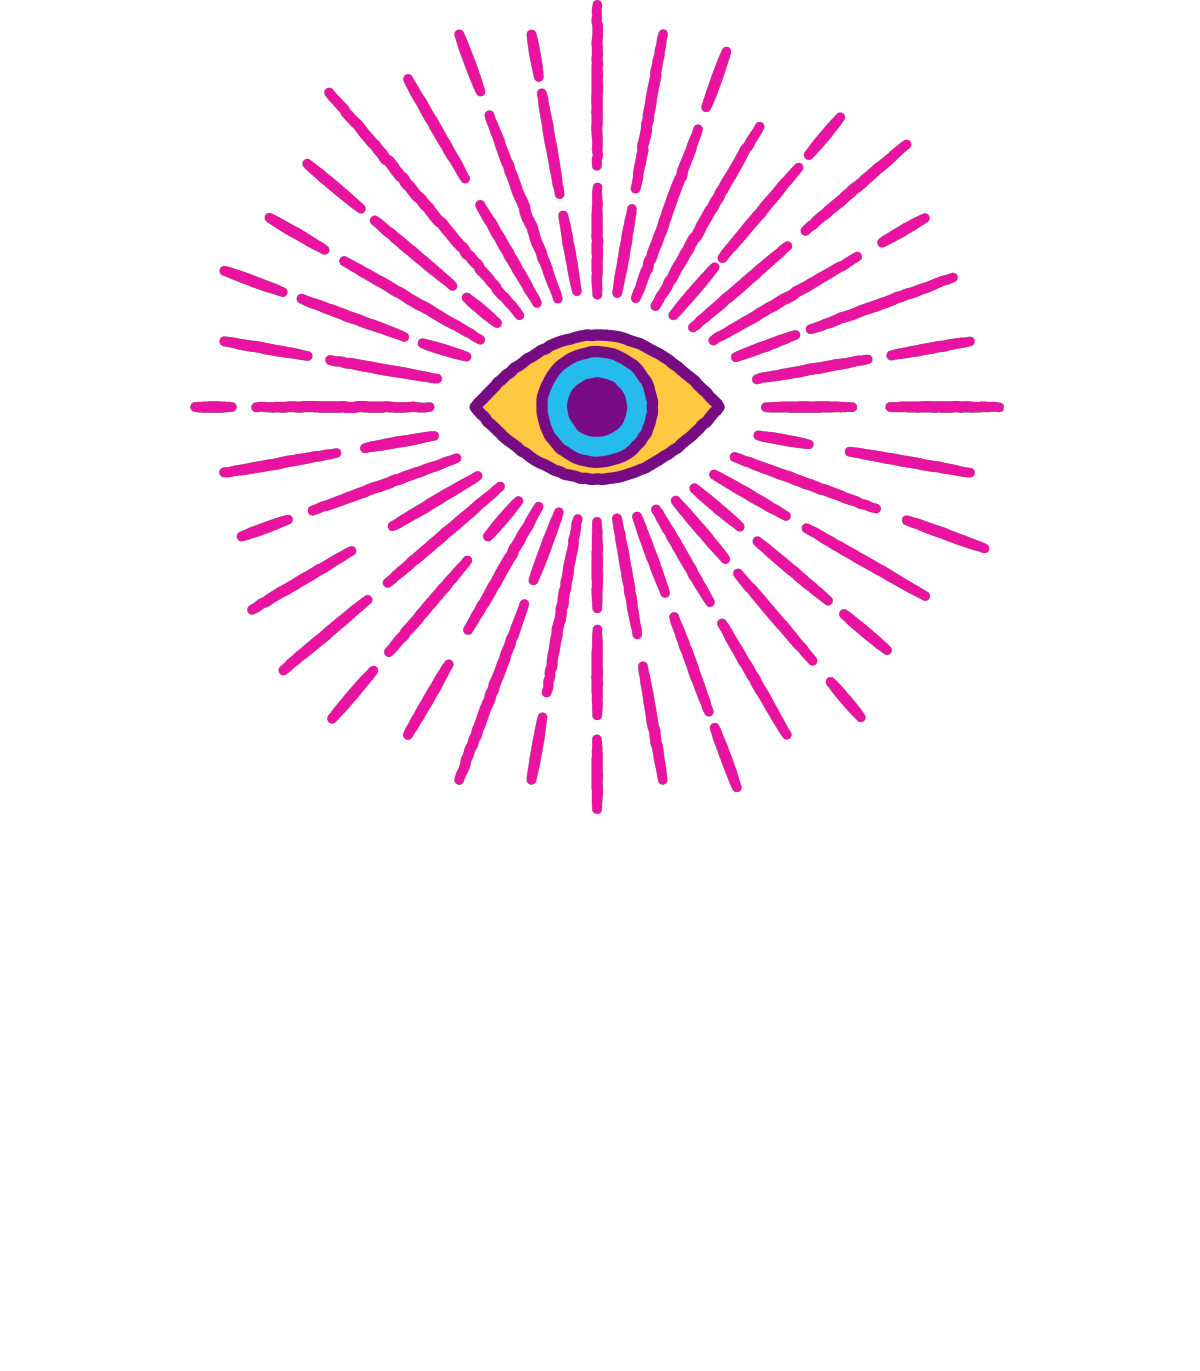design: (178, 1, 1020, 827)
